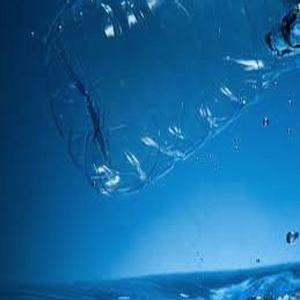Plastic: (45, 0, 300, 200)
